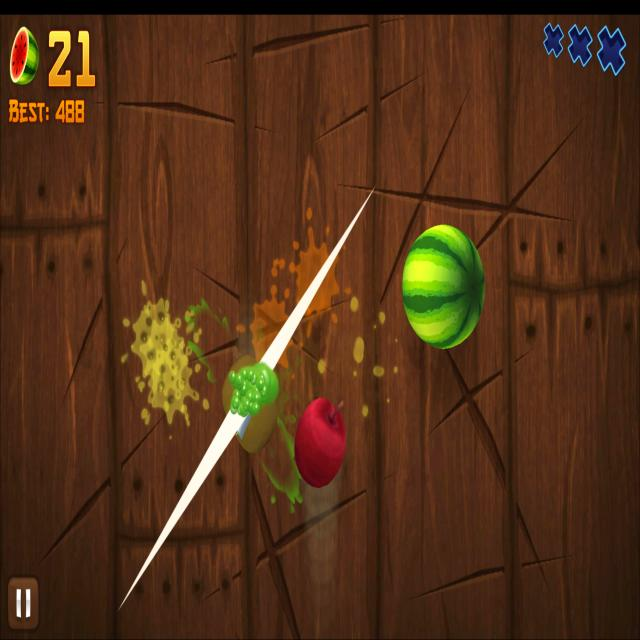fruit: (402, 224, 486, 349), (222, 354, 278, 454), (296, 396, 346, 488)
